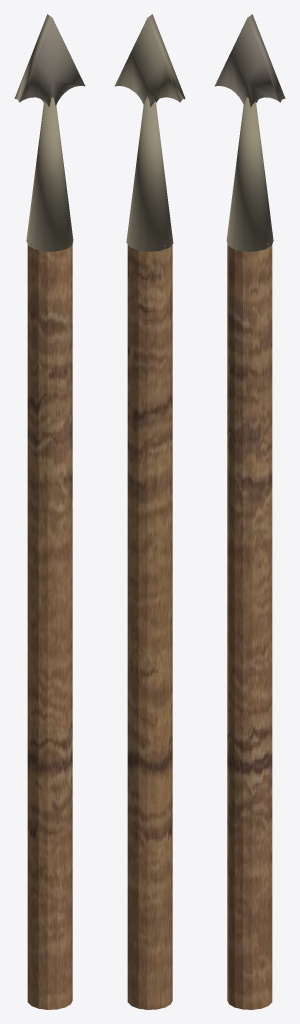
The model's file is LanzaSuelta.fbx.
3 views of the same model, side by side, from view 1: azimuth 30°, elevation 25°; view 2: azimuth 150°, elevation 25°; view 3: azimuth 330°, elevation 25° (orthographic).
Parts seen in each view (by area): view 1: Cylinder, Cone; view 2: Cylinder, Cone; view 3: Cylinder, Cone.
Boxes of the visible parts, left/top/right/bottom form: Cylinder: left=27, top=240, right=72, bottom=1009; Cone: left=14, top=14, right=85, bottom=251; Cylinder: left=127, top=242, right=172, bottom=1009; Cone: left=114, top=14, right=185, bottom=251; Cylinder: left=227, top=240, right=272, bottom=1009; Cone: left=214, top=14, right=285, bottom=251.
Size of the model in its own units: 30.54 by 436 by 18.83.
2 materials, 2 textured.
